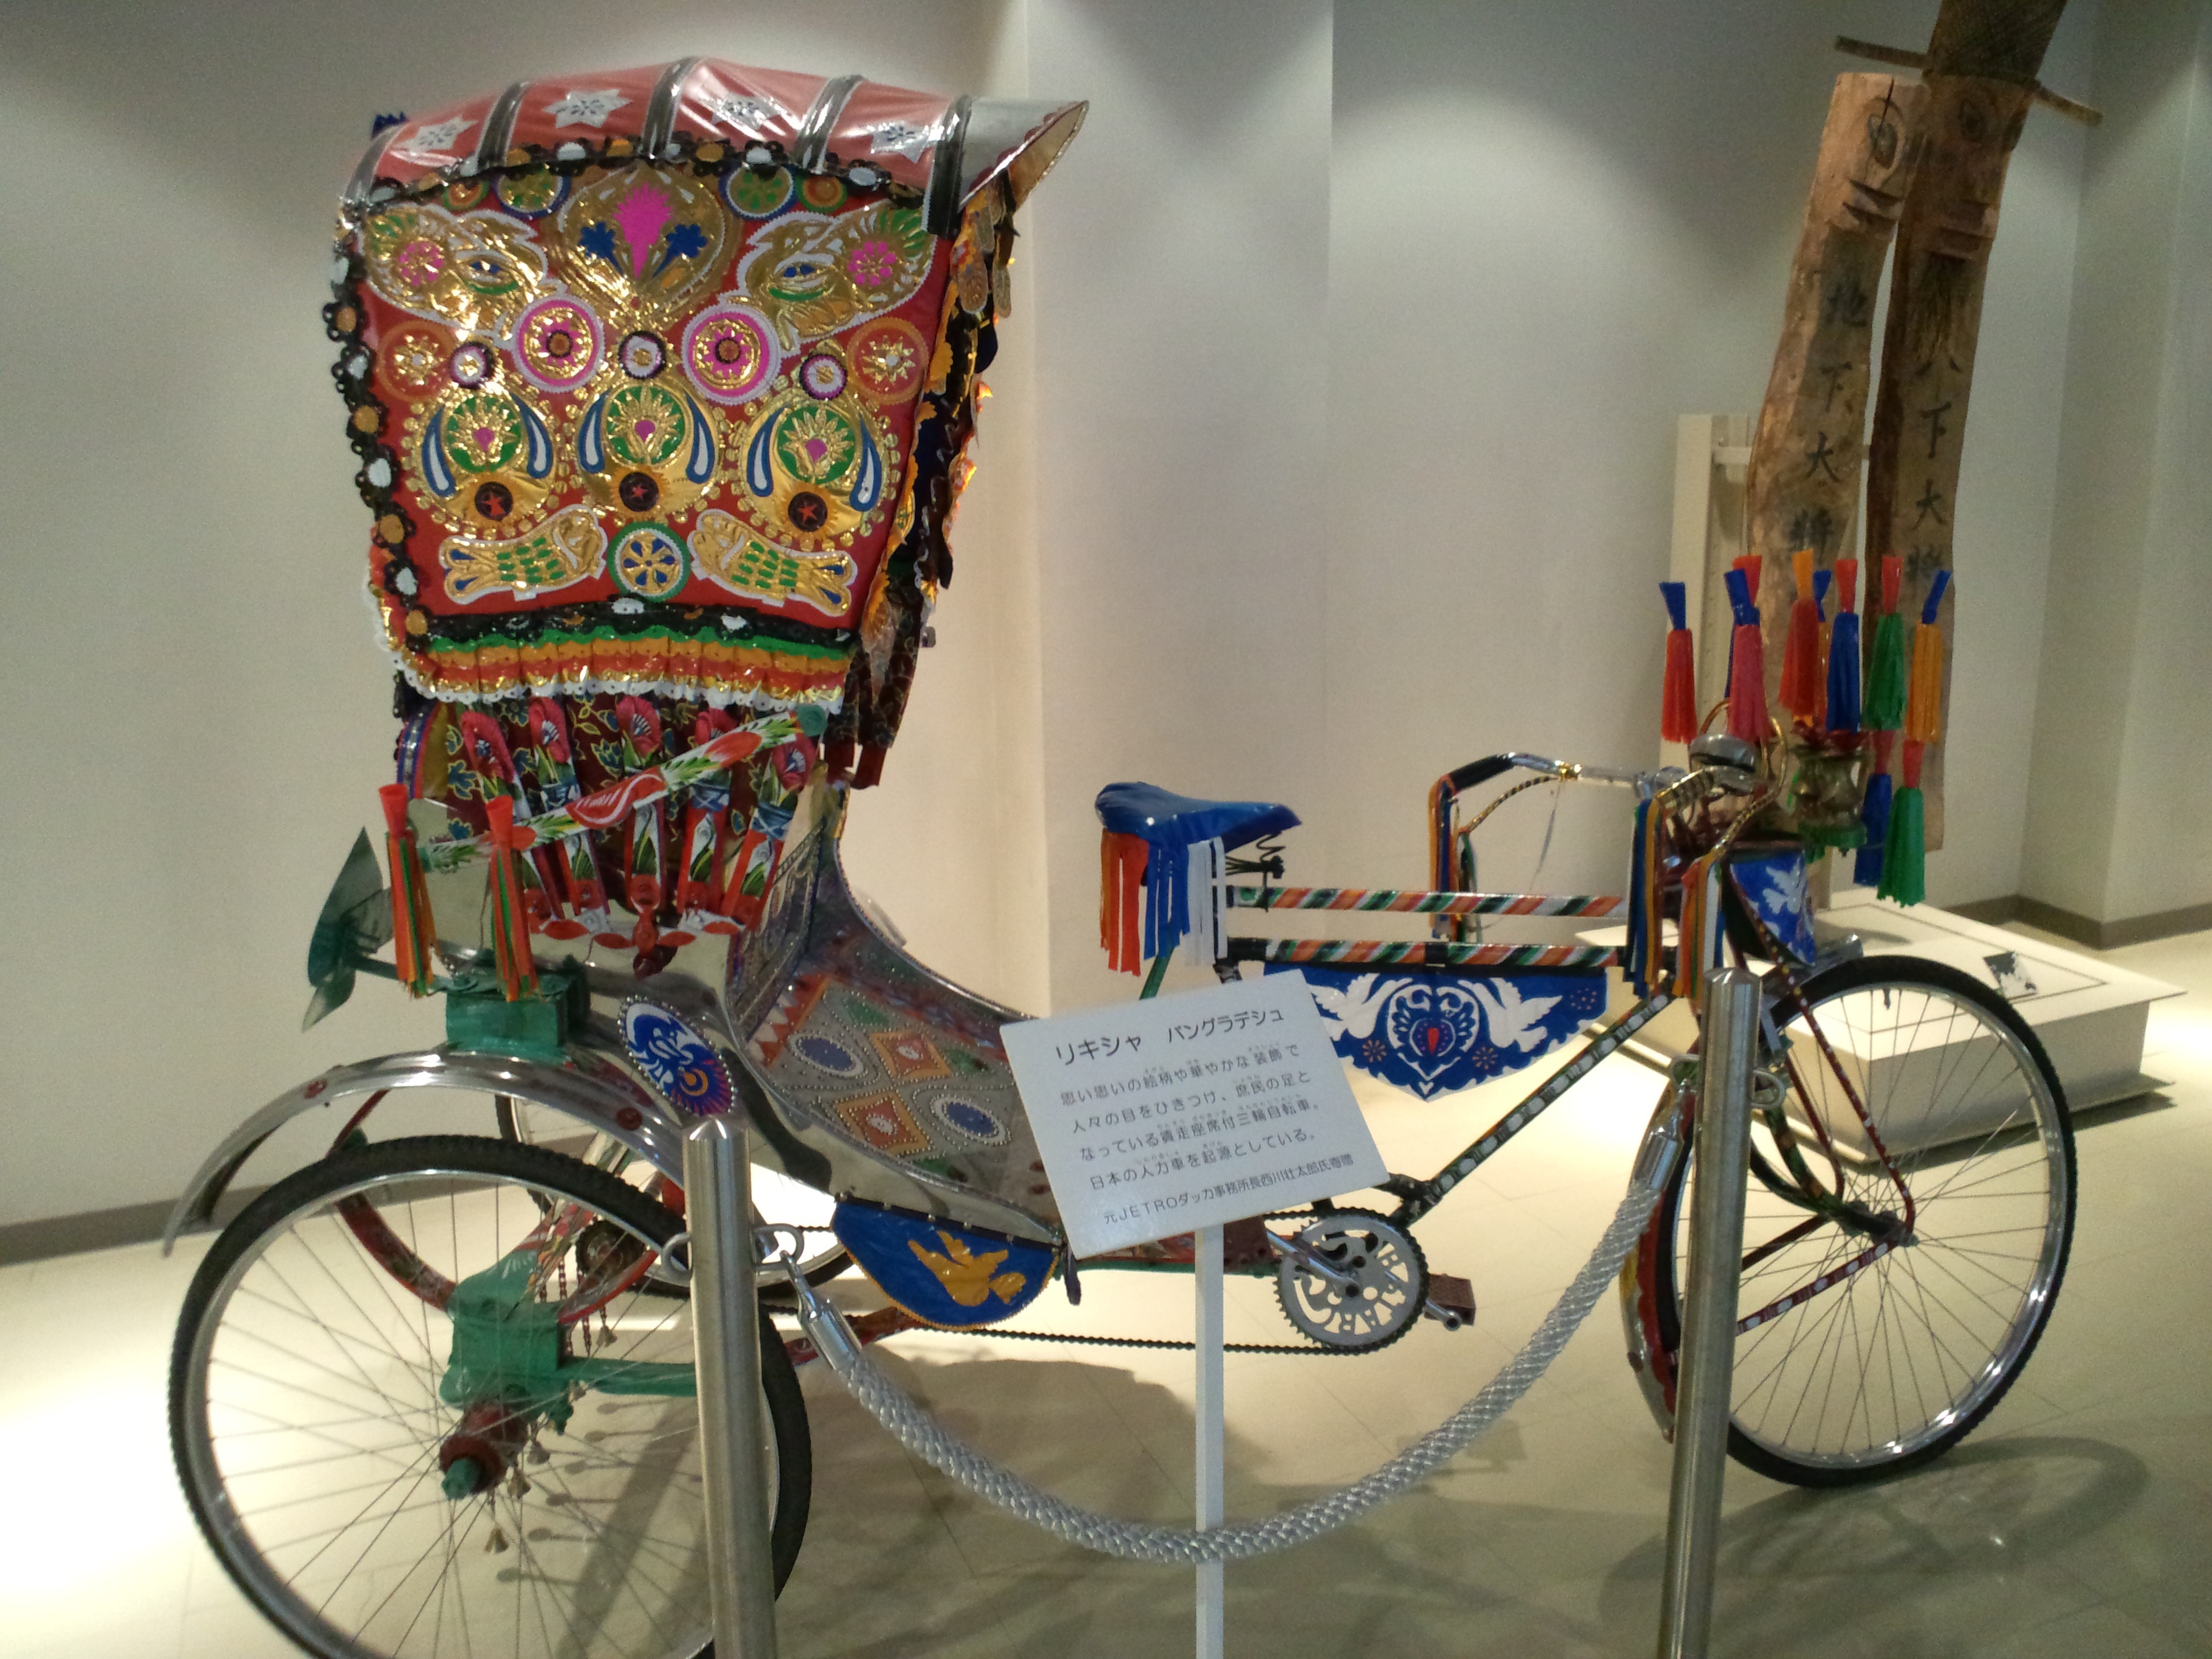Rickshaw: (153, 84, 2062, 1593)
